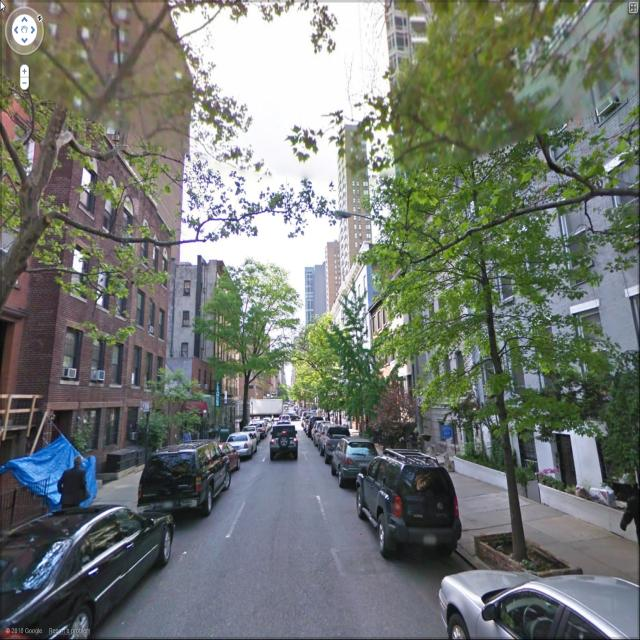b_2: (480, 6, 634, 466), (25, 134, 133, 446), (382, 3, 564, 182), (335, 247, 416, 454), (178, 245, 246, 431), (140, 196, 187, 424), (283, 319, 345, 432), (352, 112, 392, 275), (231, 314, 277, 426), (298, 238, 354, 328)
